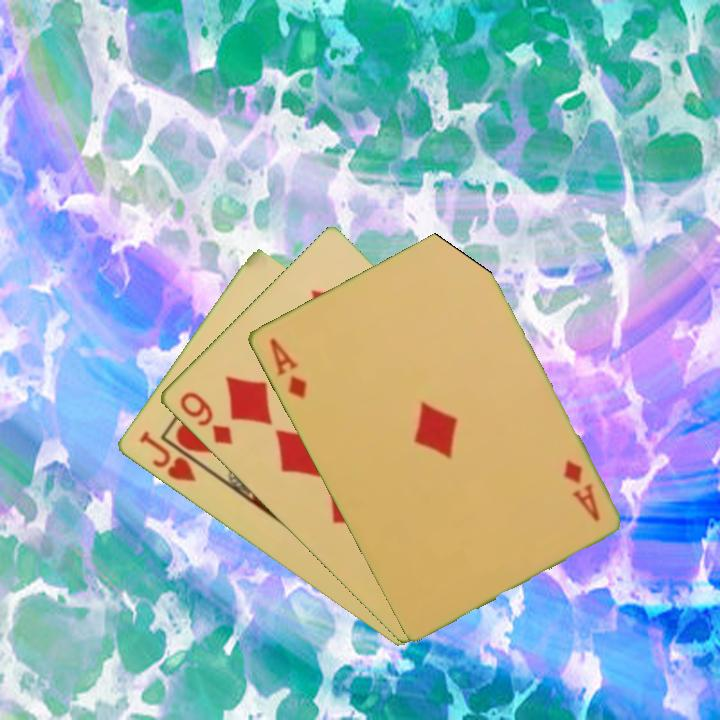9d: (176, 388, 235, 448)
Ad: (559, 455, 603, 525), (265, 334, 309, 402)
Jh: (135, 427, 211, 486)
